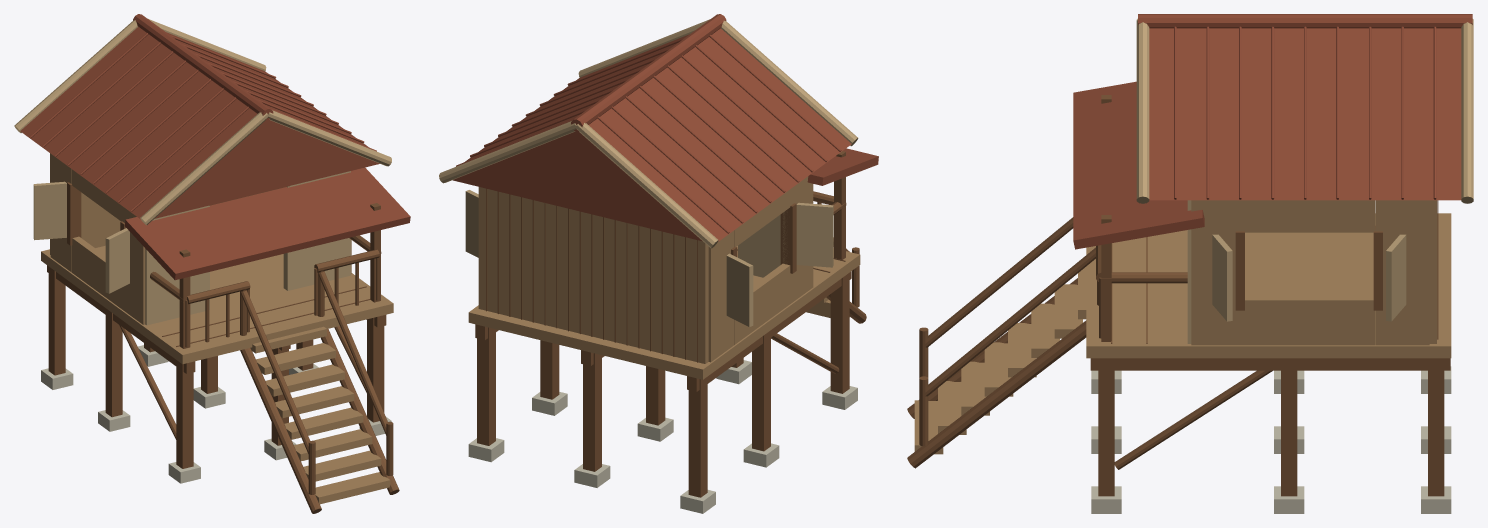
File: house-ultra.glb
3 views of the same model, side by side, from view 1: azimuth 30°, elevation 25°; view 2: azimuth 150°, elevation 25°; view 3: azimuth 270°, elevation 25° (orthographic). The views are drawn at different scales.
Parts seen in each view (by area): view 1: house; view 2: house; view 3: house.
Boxes of the visible parts, x1,y1,x2,y2 form: house: (14, 14, 410, 513); house: (439, 14, 878, 513); house: (907, 14, 1473, 513).
Size of the model in its own units: 3.86 by 4.71 by 5.59.
